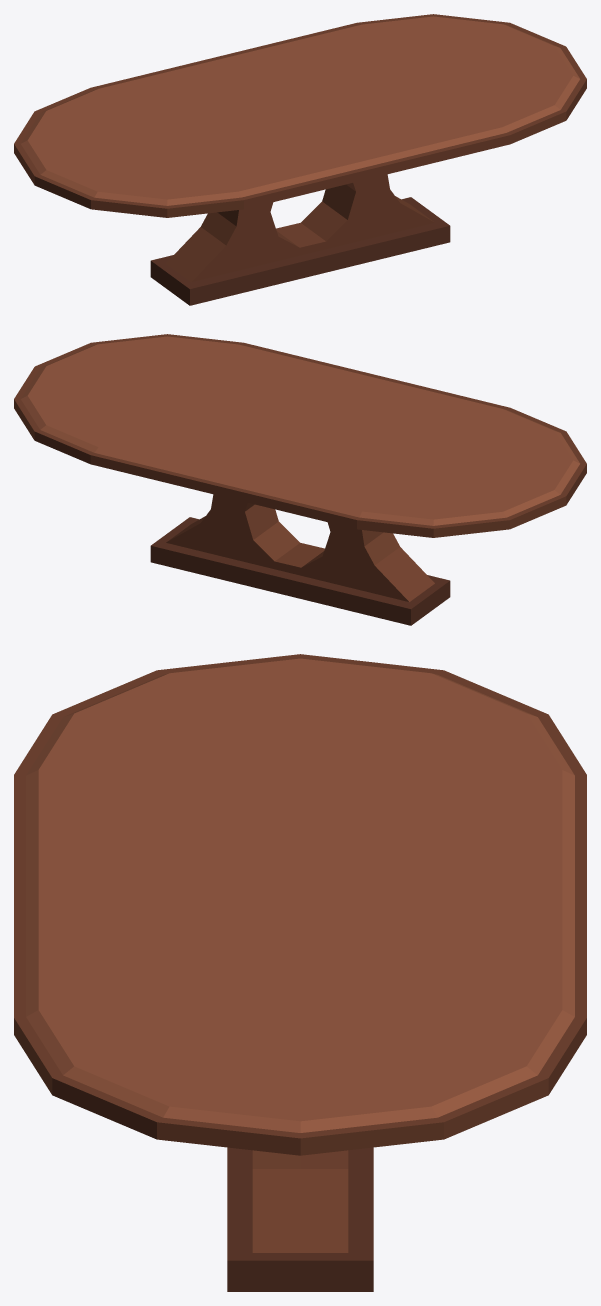
The model's file is Int_Table04.fbx.
3 views of the same model, one above another, from view 1: azimuth 30°, elevation 25°; view 2: azimuth 150°, elevation 25°; view 3: azimuth 270°, elevation 25° (orthographic). The views are drawn at different scales.
Visible parts, largest first — view 1: Int_Table04; view 2: Int_Table04; view 3: Int_Table04.
Part boxes in pixels (<box>): Int_Table04: <box>14,14,586,305</box>; Int_Table04: <box>14,334,586,625</box>; Int_Table04: <box>14,654,586,1291</box>.
Size of what is drawn, in the model's own units: 300 by 150 by 81.83.
